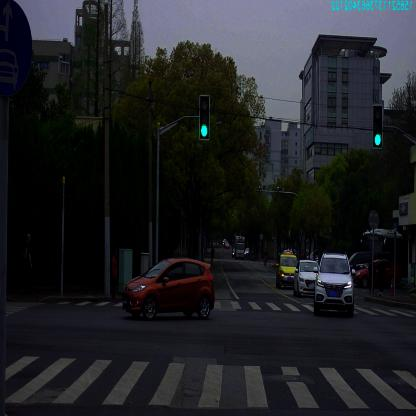traffic-light: (200, 96, 210, 140), (373, 106, 383, 148)
